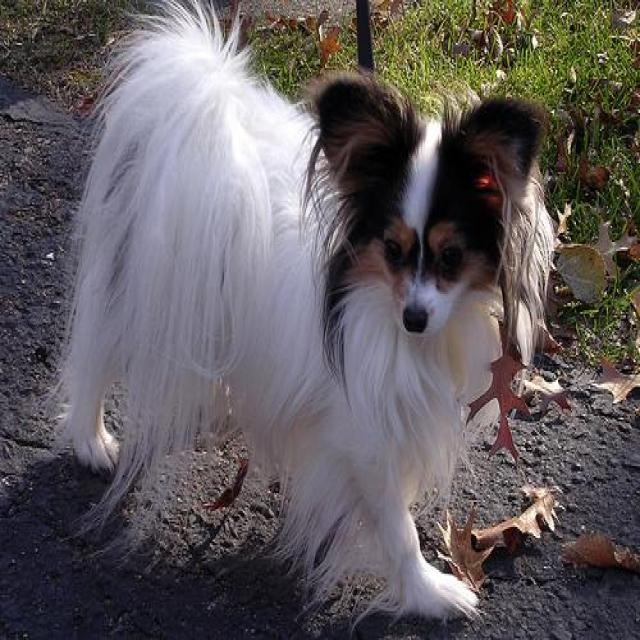papillon: (52, 2, 553, 622)
